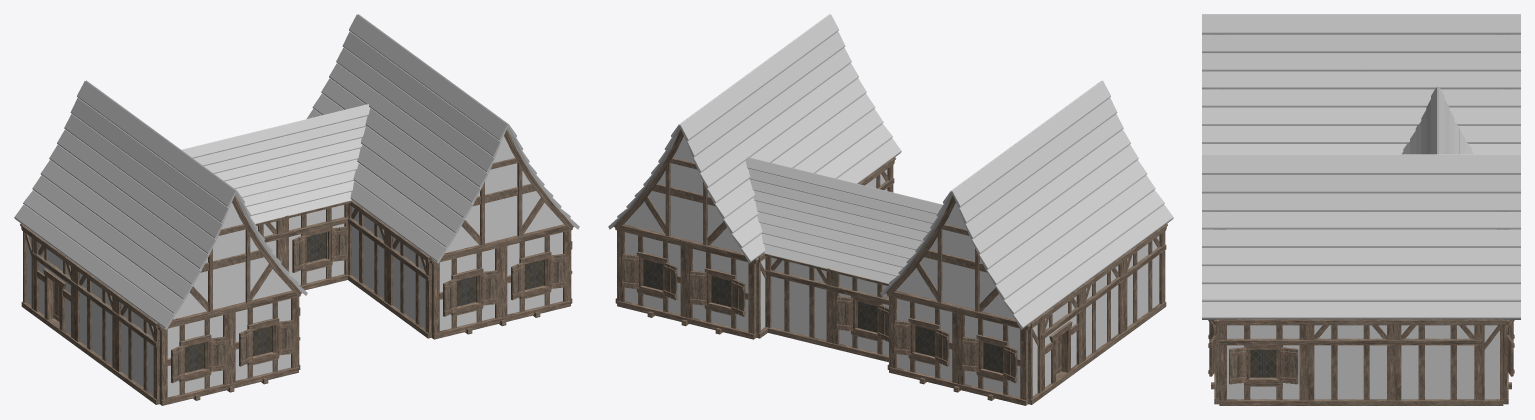
The model's file is House_1Floor_1A3.fbx.
3 renders of one model, left to right at view 1: azimuth 30°, elevation 25°; view 2: azimuth 150°, elevation 25°; view 3: azimuth 270°, elevation 25°, orthographic. The views are drawn at different scales.
Parts seen in each view (by area): view 1: House_1Floor_1A3, Plane.574, Plane.565, Plane.567, Plane.564, Plane.568; view 2: House_1Floor_1A3, Plane.578, Plane.571, Plane.572, Plane.570, Plane.573; view 3: House_1Floor_1A3, Plane.582.
Part boxes in pixels (left/top/right/bottom): House_1Floor_1A3: left=14, top=14, right=579, bottom=405; Plane.574: left=306, top=232, right=325, bottom=262; Plane.565: left=525, top=259, right=543, bottom=289; Plane.567: left=185, top=342, right=203, bottom=372; Plane.564: left=457, top=276, right=475, bottom=306; Plane.568: left=253, top=326, right=271, bottom=356; House_1Floor_1A3: left=608, top=14, right=1173, bottom=405; Plane.578: left=857, top=302, right=877, bottom=332; Plane.571: left=643, top=259, right=662, bottom=290; Plane.572: left=983, top=342, right=1002, bottom=373; Plane.570: left=711, top=276, right=730, bottom=306; Plane.573: left=915, top=326, right=934, bottom=356; House_1Floor_1A3: left=1202, top=14, right=1520, bottom=405; Plane.582: left=1250, top=350, right=1276, bottom=377.
Size of the model in its own units: 2478 by 1152 by 1536.
